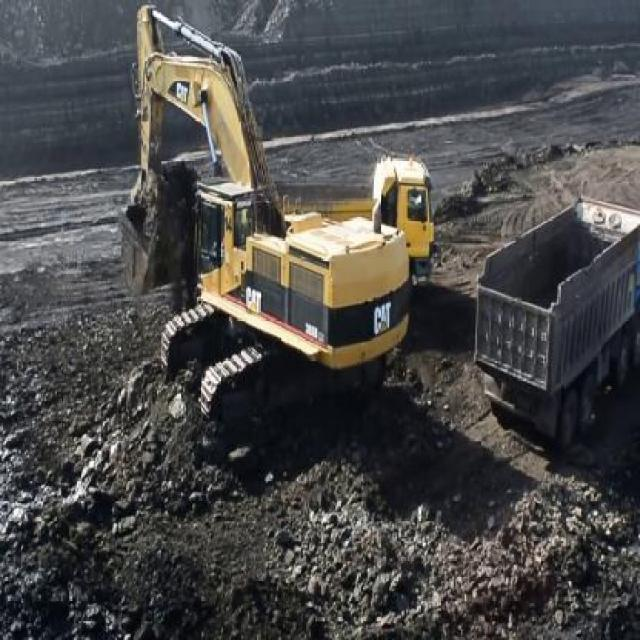Dump Truck: (472, 195, 639, 452), (280, 156, 434, 281)
Excavator: (124, 4, 408, 485)
